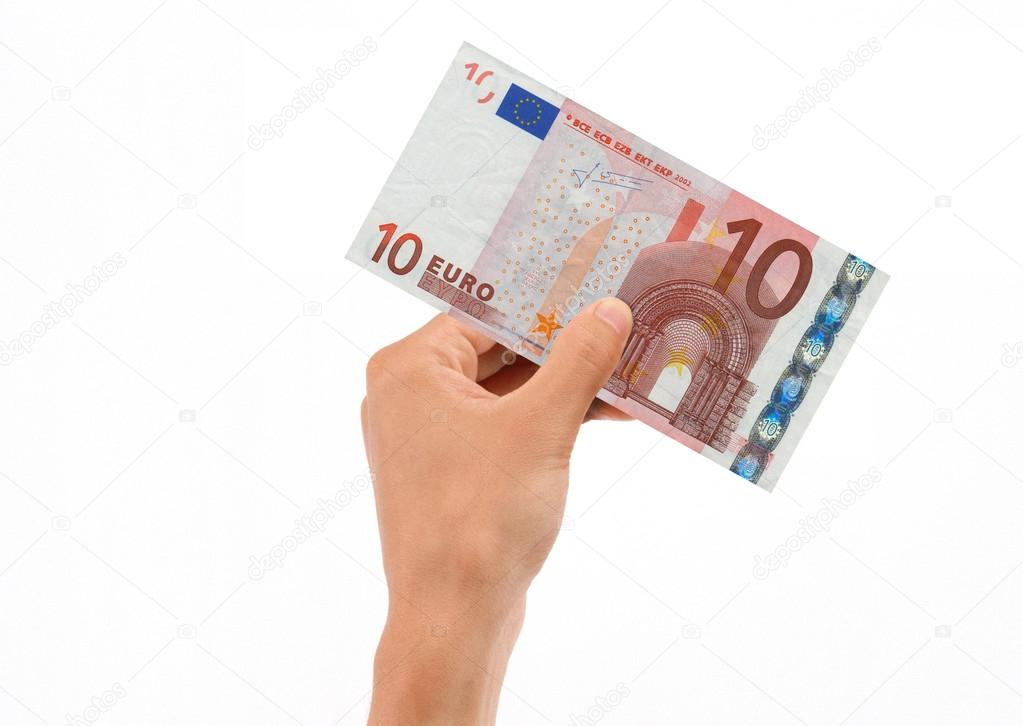billete: (342, 38, 892, 495)
